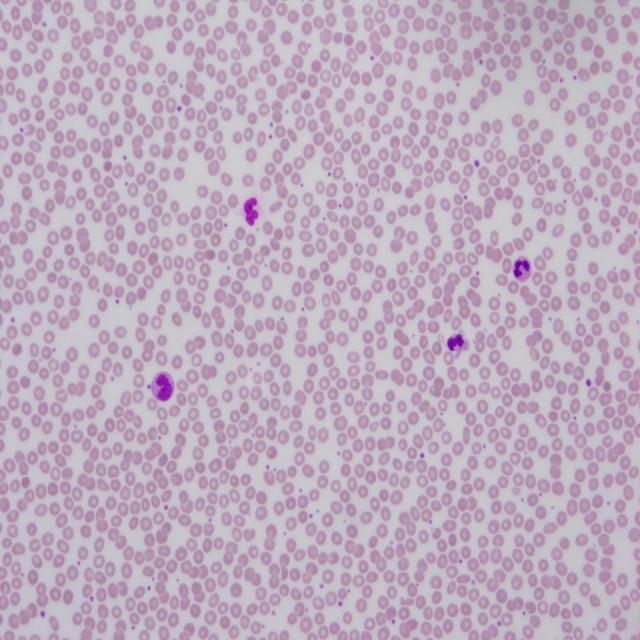cell: (512, 257, 531, 280)
